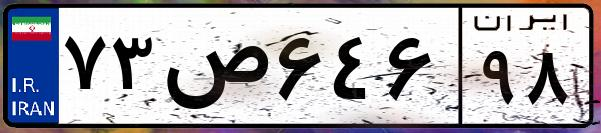3: (110, 28, 158, 98)
4: (330, 28, 385, 110)
6: (270, 28, 330, 110), (385, 28, 445, 110)
7: (57, 26, 110, 100)
8: (525, 38, 570, 115)
9: (475, 38, 525, 113)
ص: (158, 20, 270, 120)
